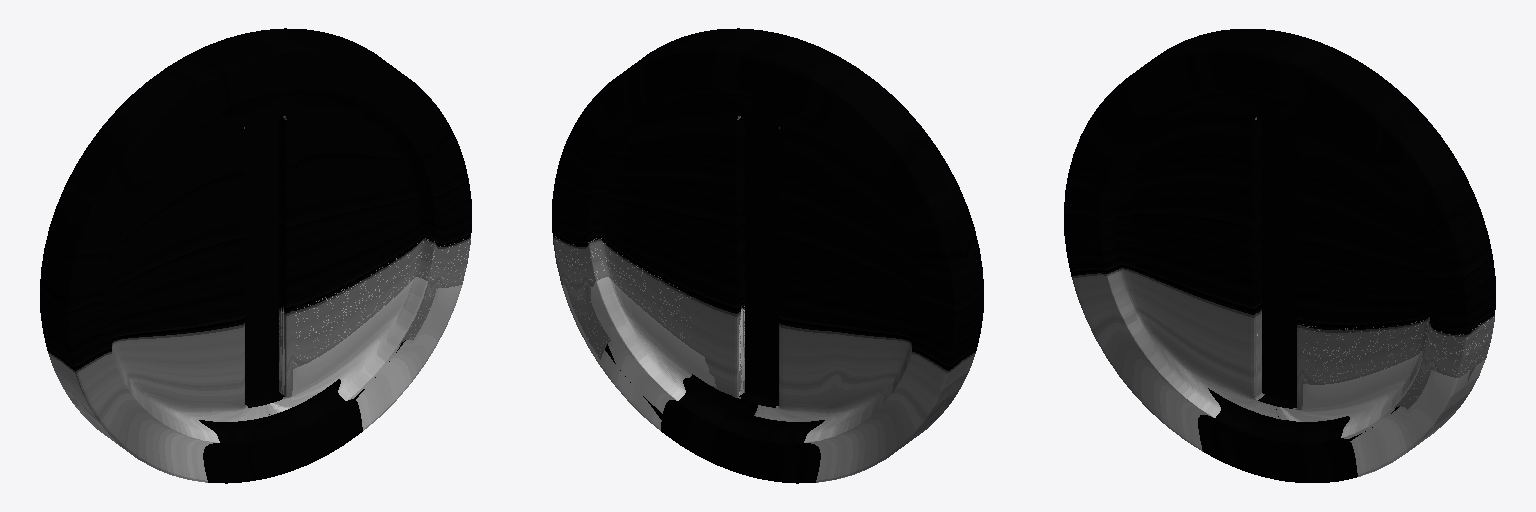
3 renders of one model, left to right at view 1: azimuth 30°, elevation 25°; view 2: azimuth 150°, elevation 25°; view 3: azimuth 330°, elevation 25°, orthographic.
Parts seen in each view (by area): view 1: Plane; view 2: Plane; view 3: Plane.
Boxes of the visible parts, box(x1,y1,x2,y2) form: Plane: box(40, 28, 471, 483); Plane: box(552, 28, 983, 483); Plane: box(1064, 29, 1495, 482).
Bounding box in the file's own units: 2.52 × 2.52 × 0.3139.
Materials: 1 (1 with a texture image).